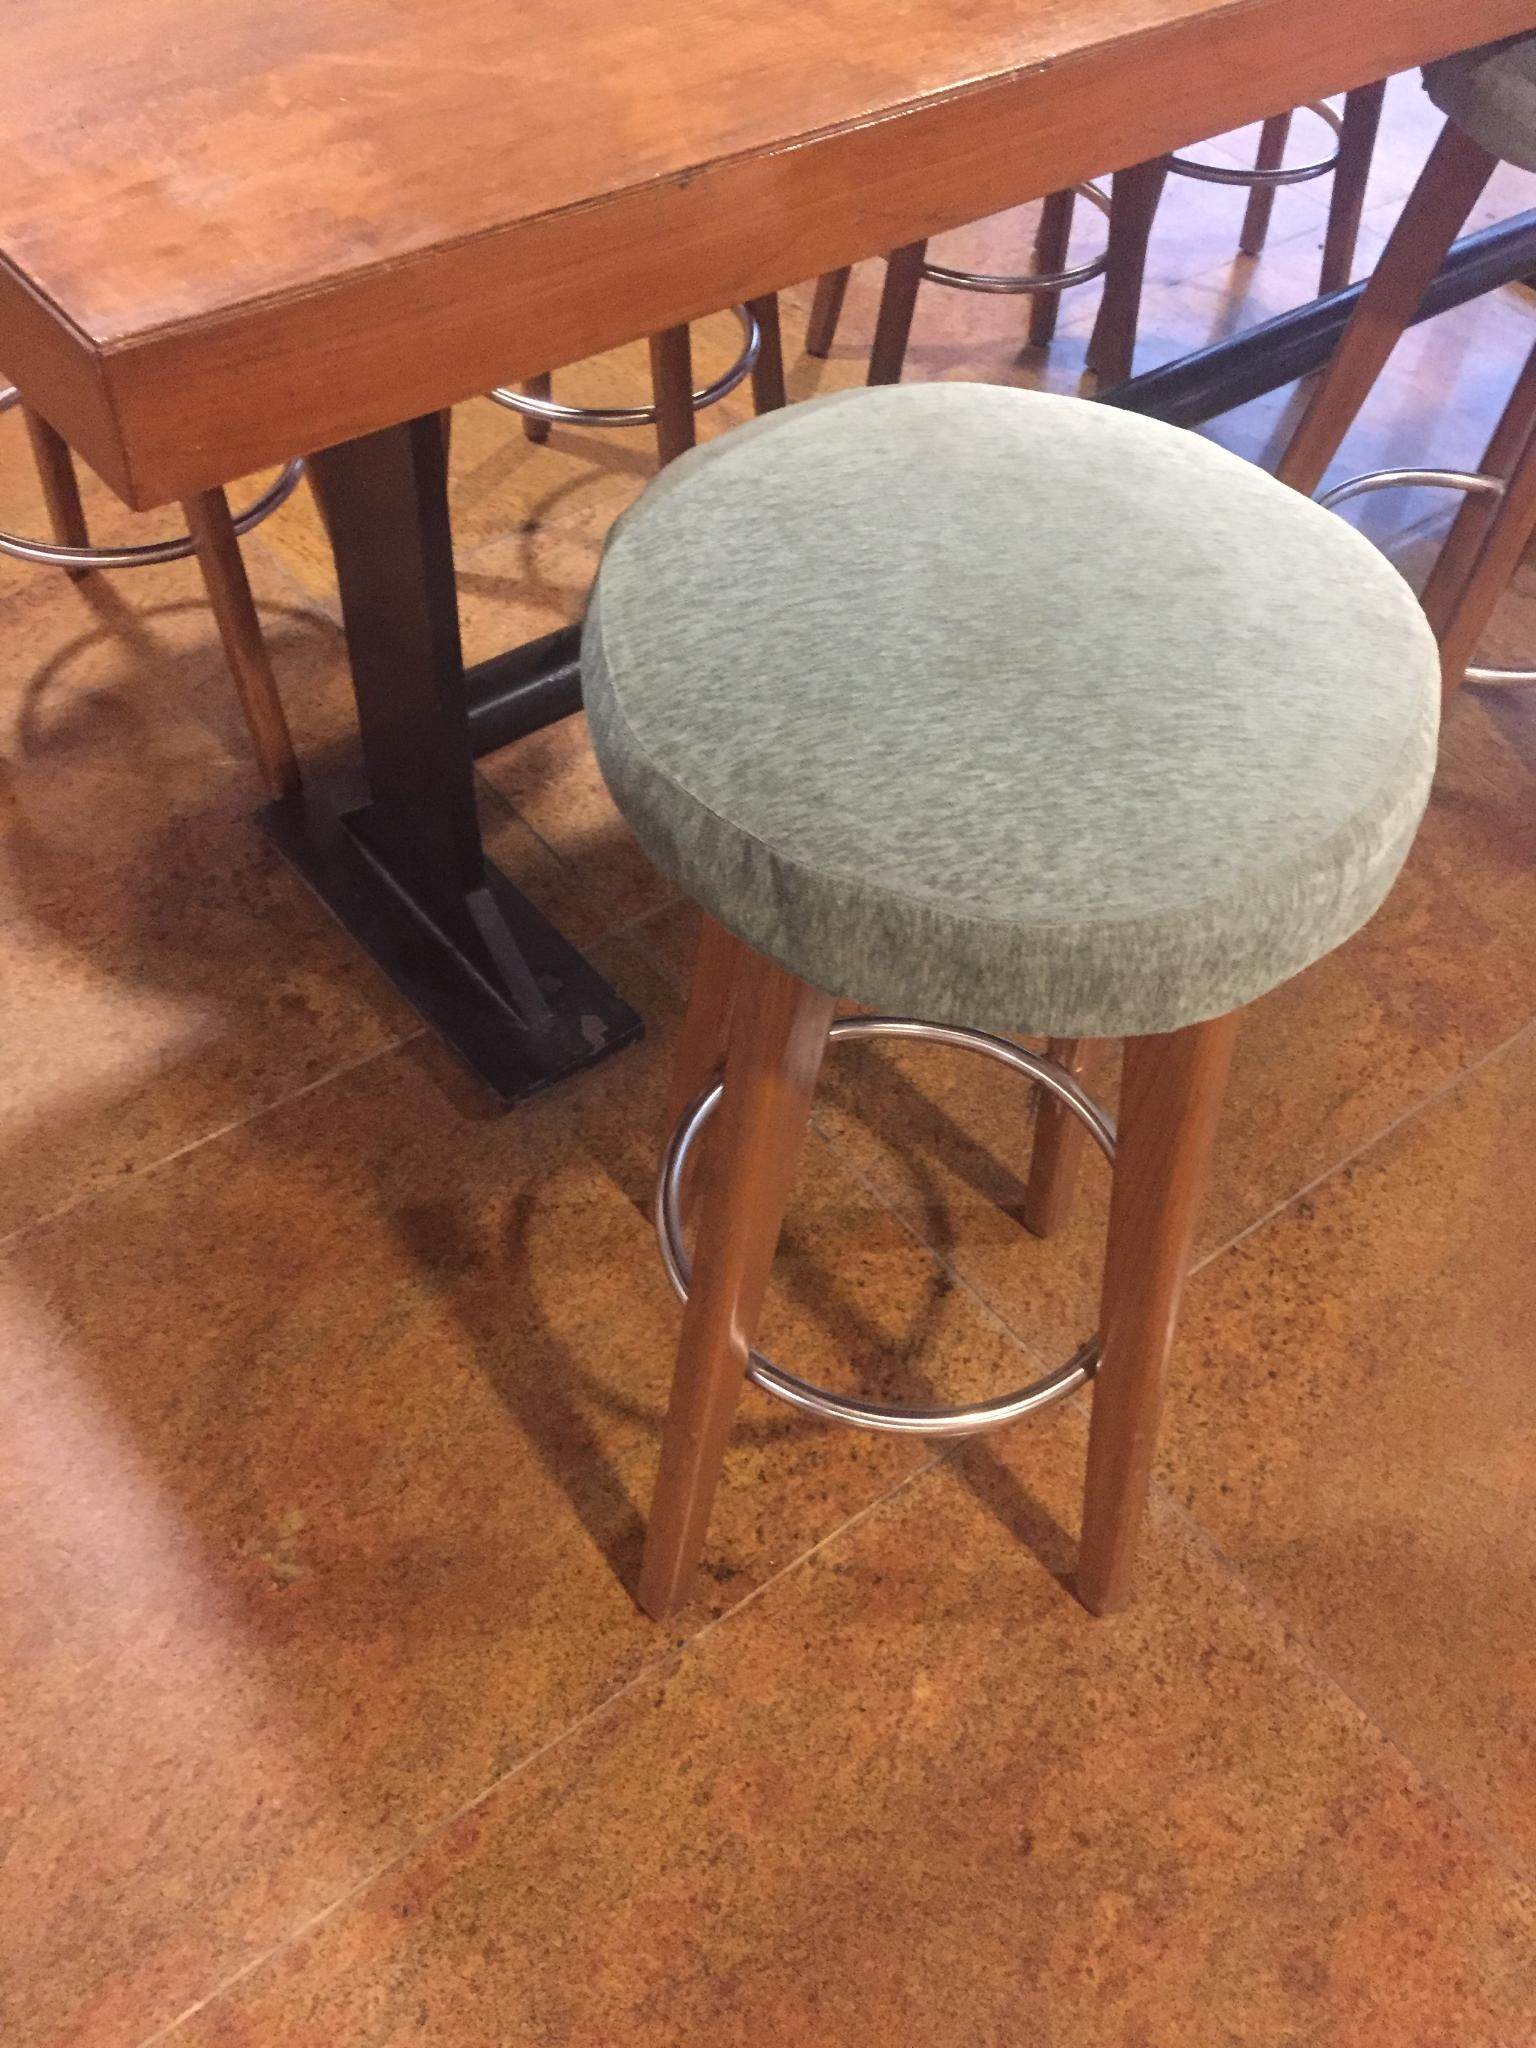chair: (582, 32, 1534, 1621), (1362, 2, 1536, 735)
